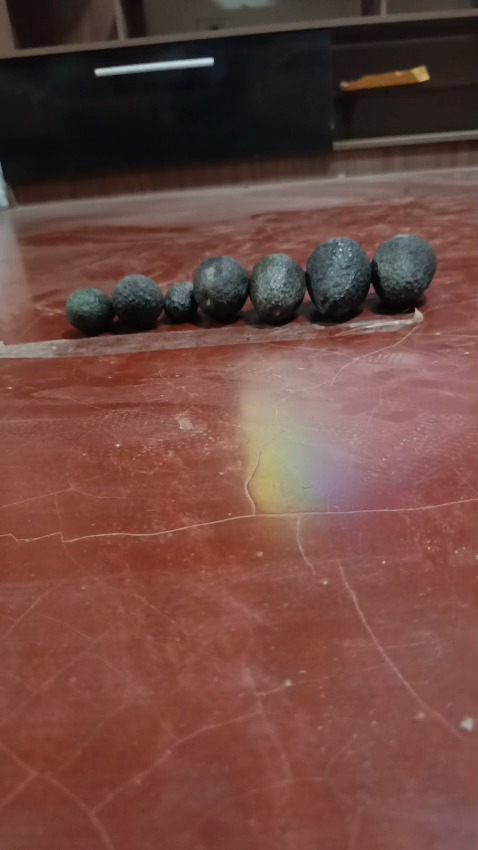Primera: (305, 237, 371, 320), (371, 234, 437, 310)
Segunda: (248, 253, 306, 324), (193, 255, 250, 321), (111, 273, 165, 330)
Tercera: (66, 287, 112, 334), (164, 281, 197, 322)
